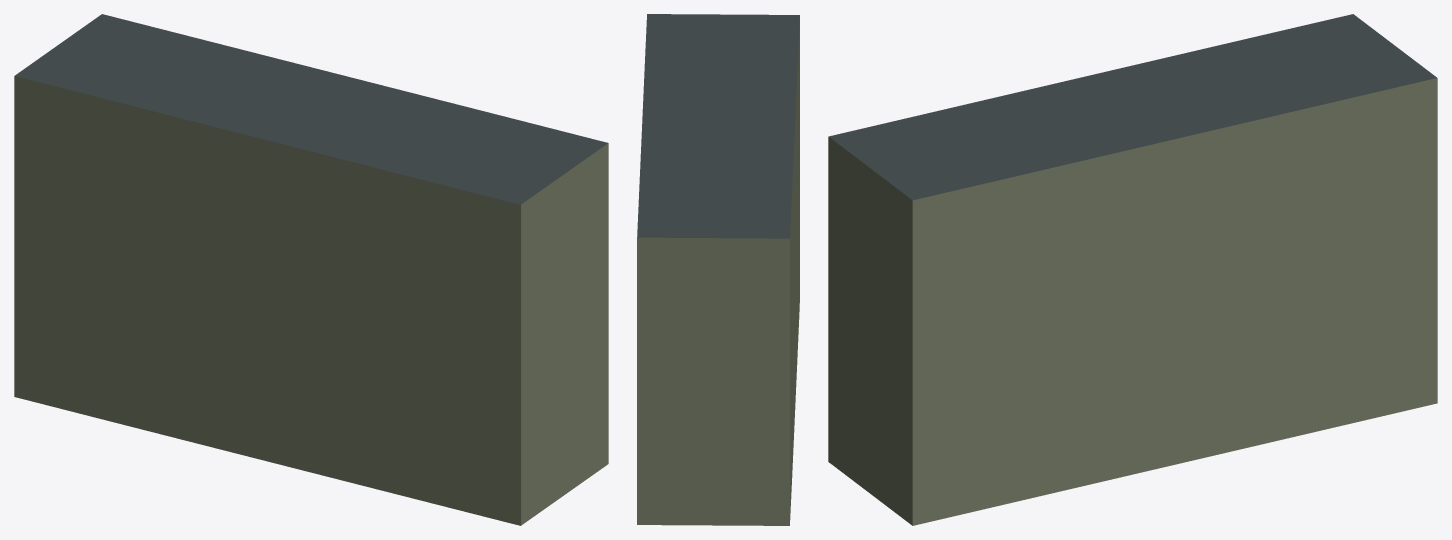
The model's file is nyc-1034353-0.glb.
3 views of the same model, side by side, from view 1: azimuth 30°, elevation 25°; view 2: azimuth 150°, elevation 25°; view 3: azimuth 270°, elevation 25° (orthographic). The views are drawn at different scales.
Parts seen in each view (by area): view 1: nyc-1034353-0; view 2: nyc-1034353-0; view 3: nyc-1034353-0.
Boxes of the visible parts, left/top/right/bottom form: nyc-1034353-0: left=14, top=14, right=608, bottom=525; nyc-1034353-0: left=637, top=14, right=799, bottom=525; nyc-1034353-0: left=828, top=14, right=1437, bottom=525.
Bounding box in the file's own units: 15.61 × 12.71 × 21.55.
